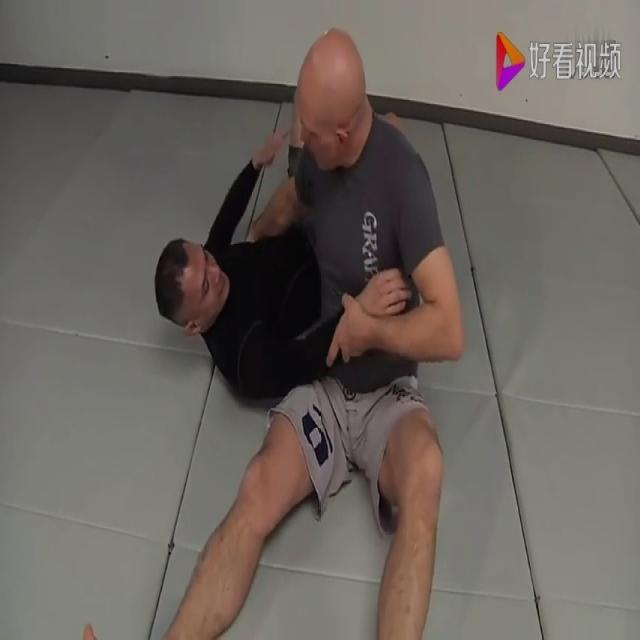fight: (106, 8, 502, 639)
